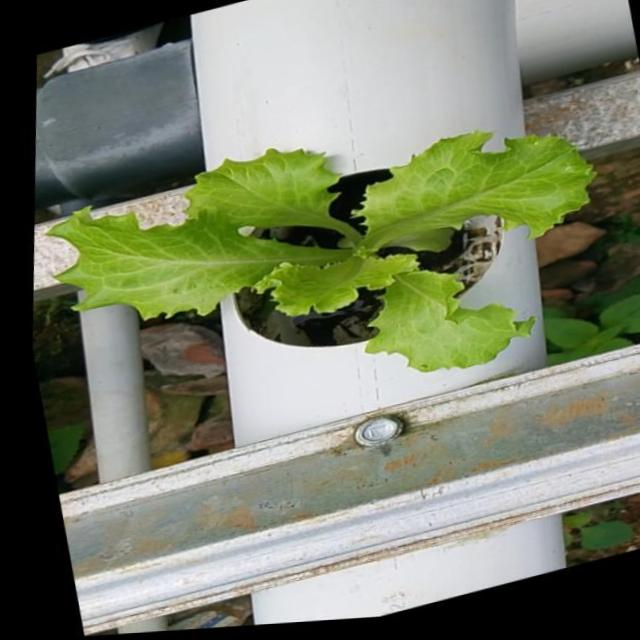Baby: (46, 129, 597, 371)
